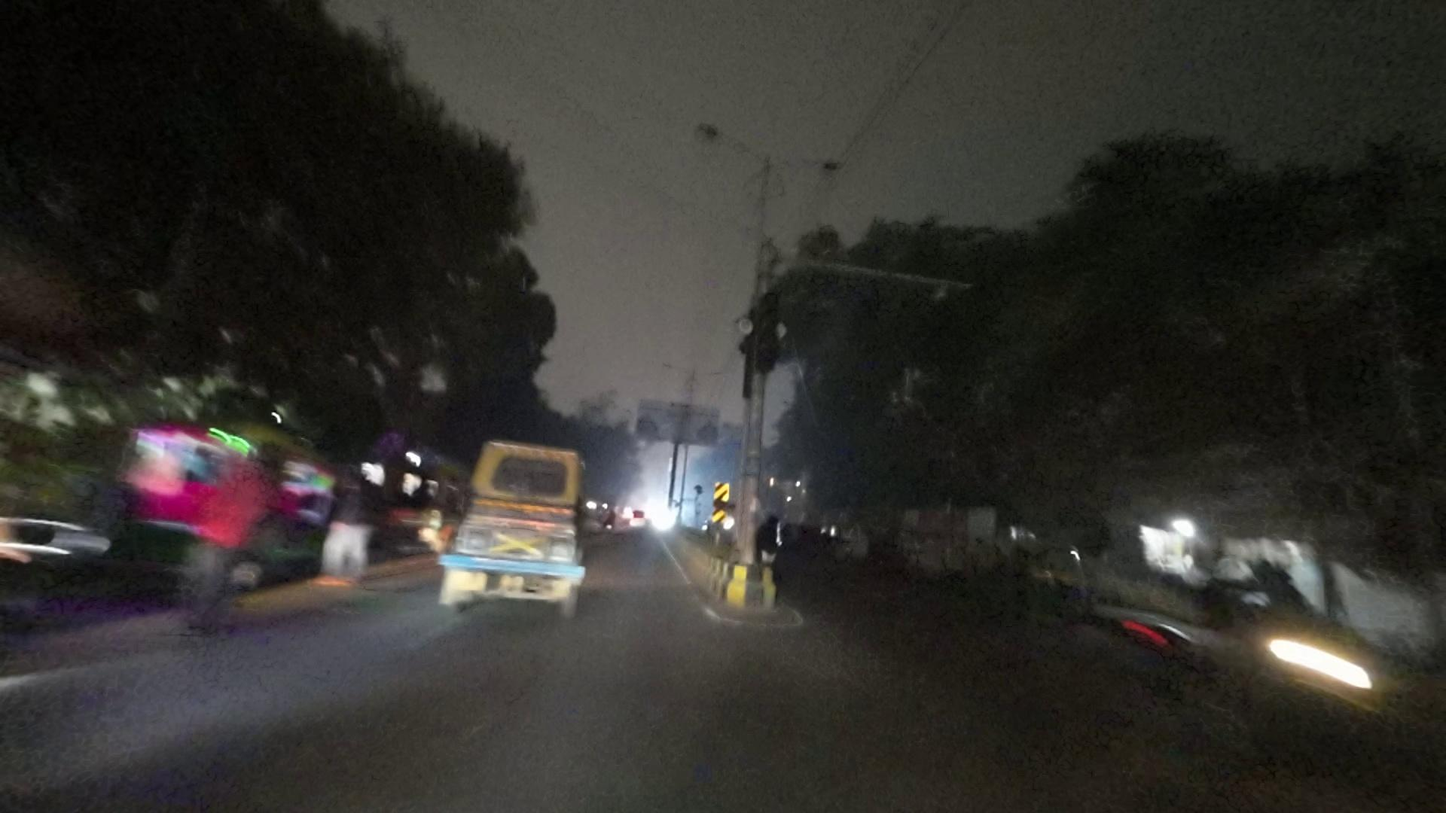streetlight: (693, 119, 764, 158), (775, 151, 843, 178)
